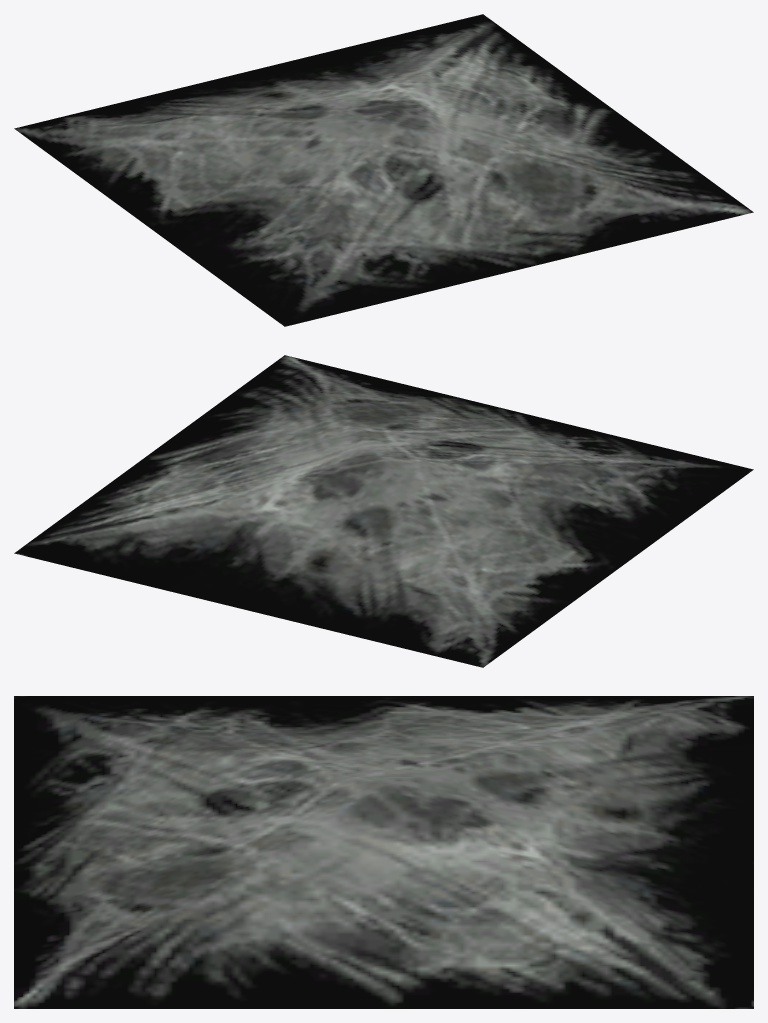
File: S_Build_Forest070.FBX
The picture shows the model from 3 angles, top to bottom: view 1: azimuth 30°, elevation 25°; view 2: azimuth 150°, elevation 25°; view 3: azimuth 270°, elevation 25°; orthographic projection. The views are drawn at different scales.
Visible parts, largest first — view 1: S_Build_Forest070; view 2: S_Build_Forest070; view 3: S_Build_Forest070.
Boxes of the visible parts, x1=… form: S_Build_Forest070: x1=14, y1=14, x2=753, y2=326; S_Build_Forest070: x1=14, y1=355, x2=753, y2=667; S_Build_Forest070: x1=14, y1=696, x2=753, y2=1008.
Bounding box in the file's own units: 320 × 320 × 31.31.
